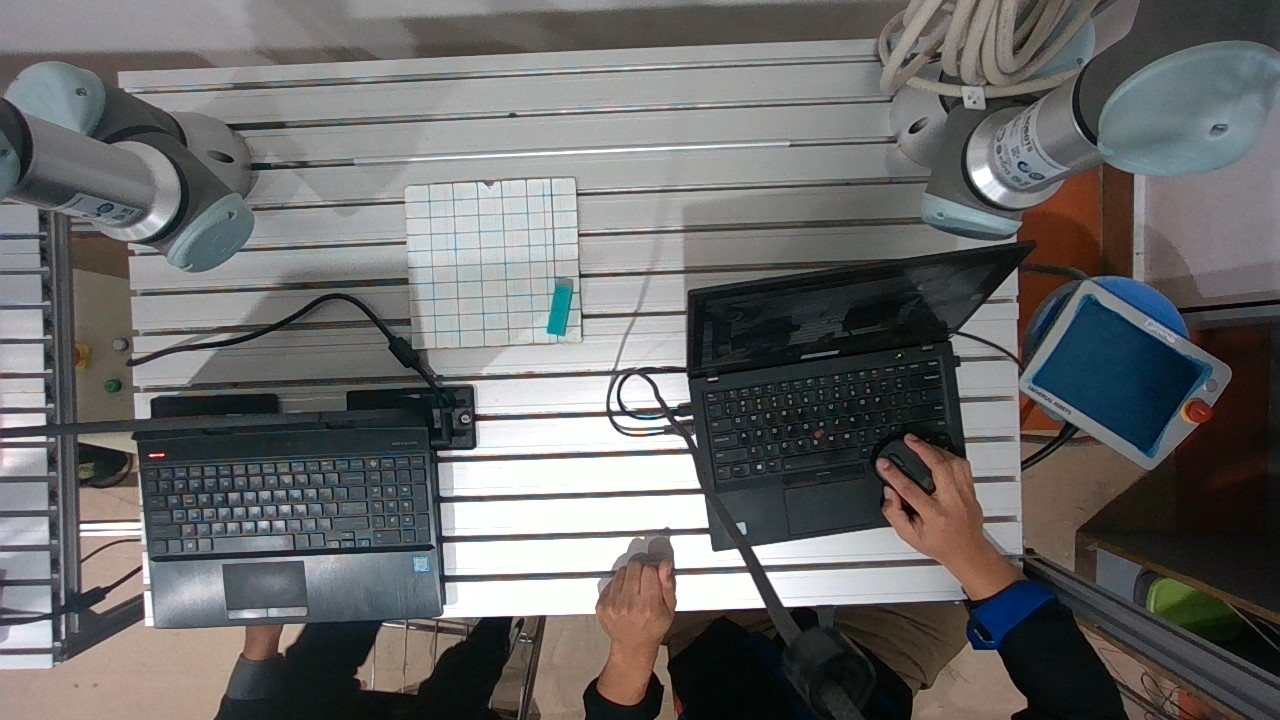box: (542, 261, 581, 346)
